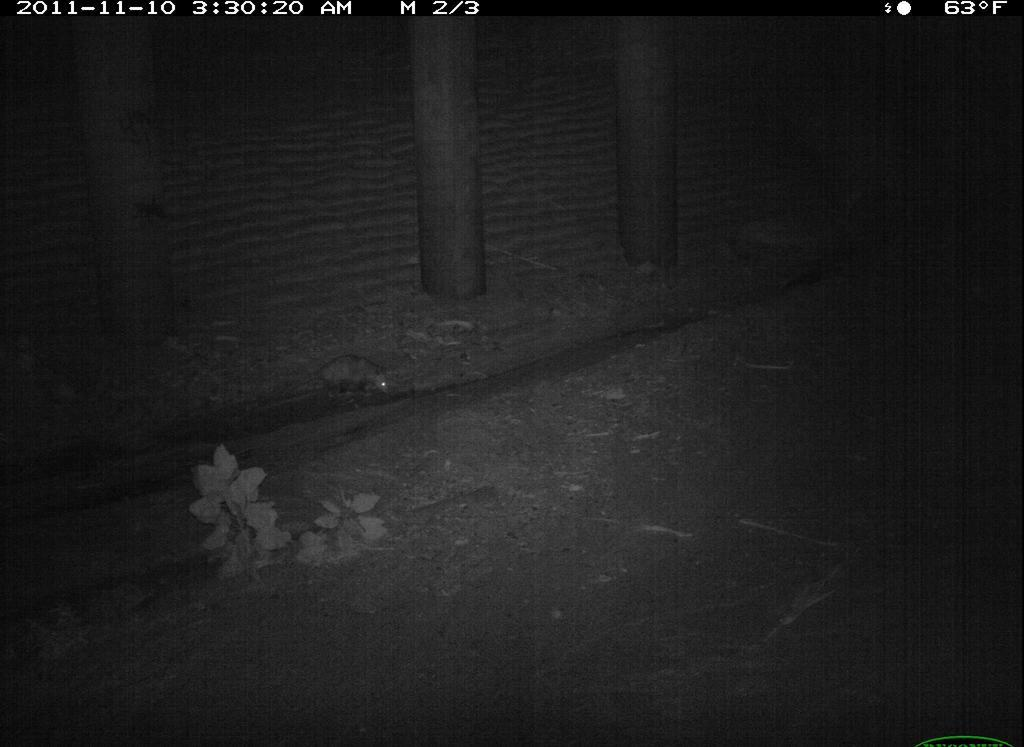opossum: (564, 702, 793, 747)
